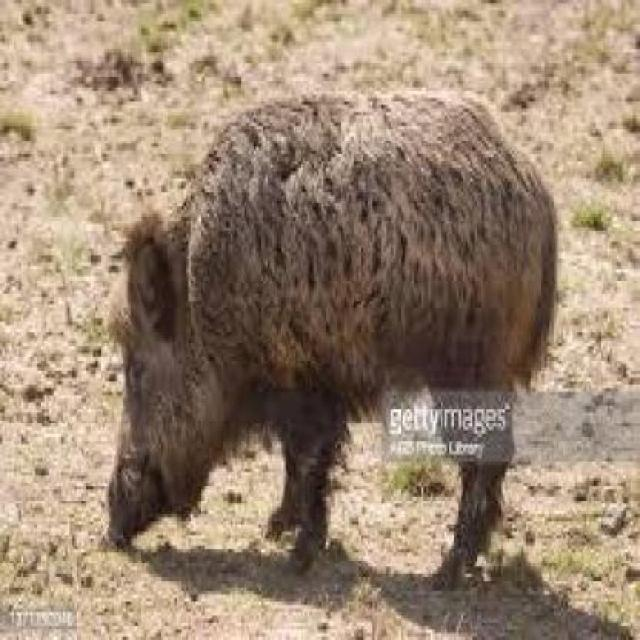wildboar: (94, 84, 569, 593)
